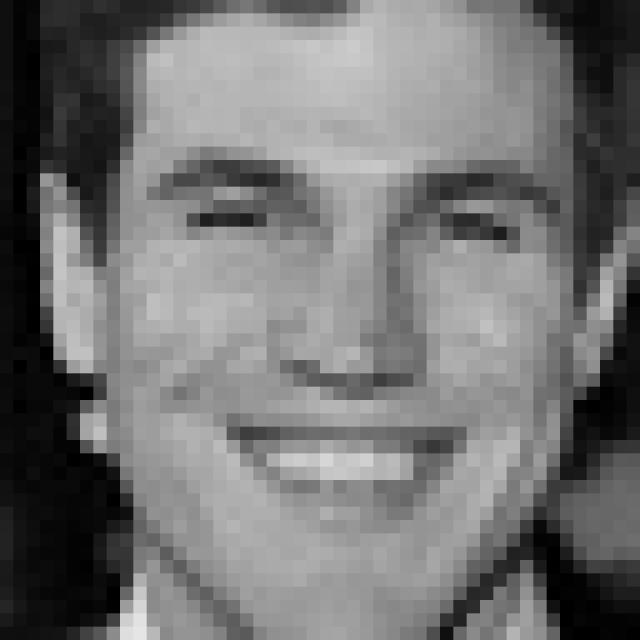happy: (134, 135, 576, 546)
